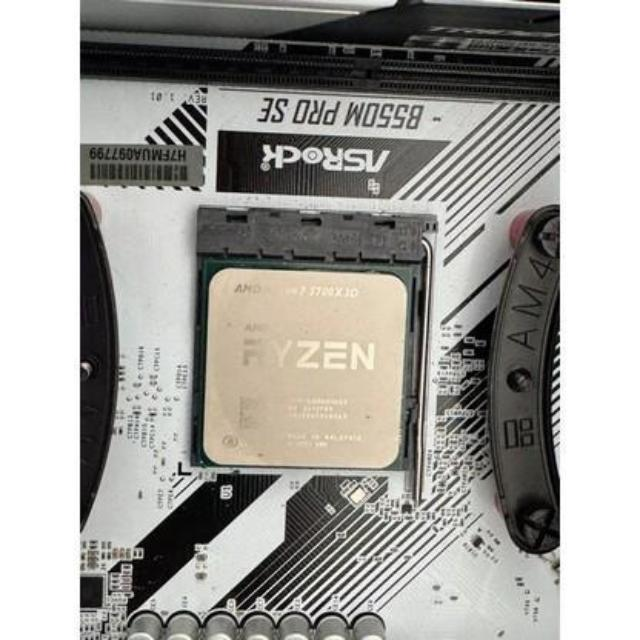CPU: (204, 265, 406, 467)
